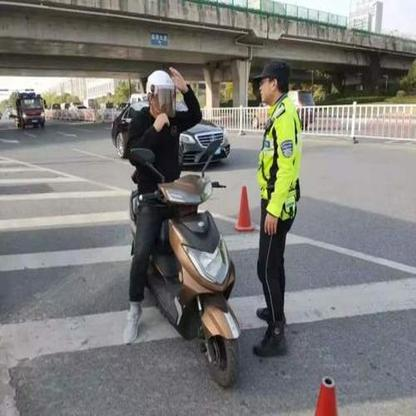target: (121, 69, 247, 393)
